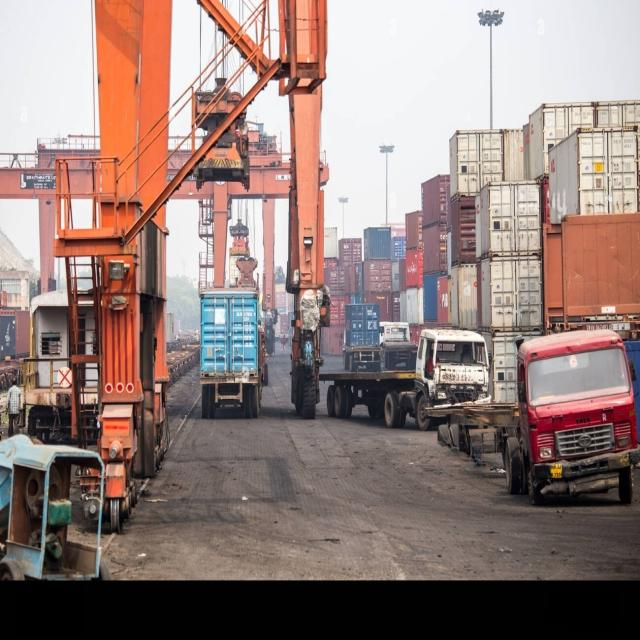truck: (429, 330, 640, 504), (320, 330, 490, 430), (200, 287, 265, 418)
